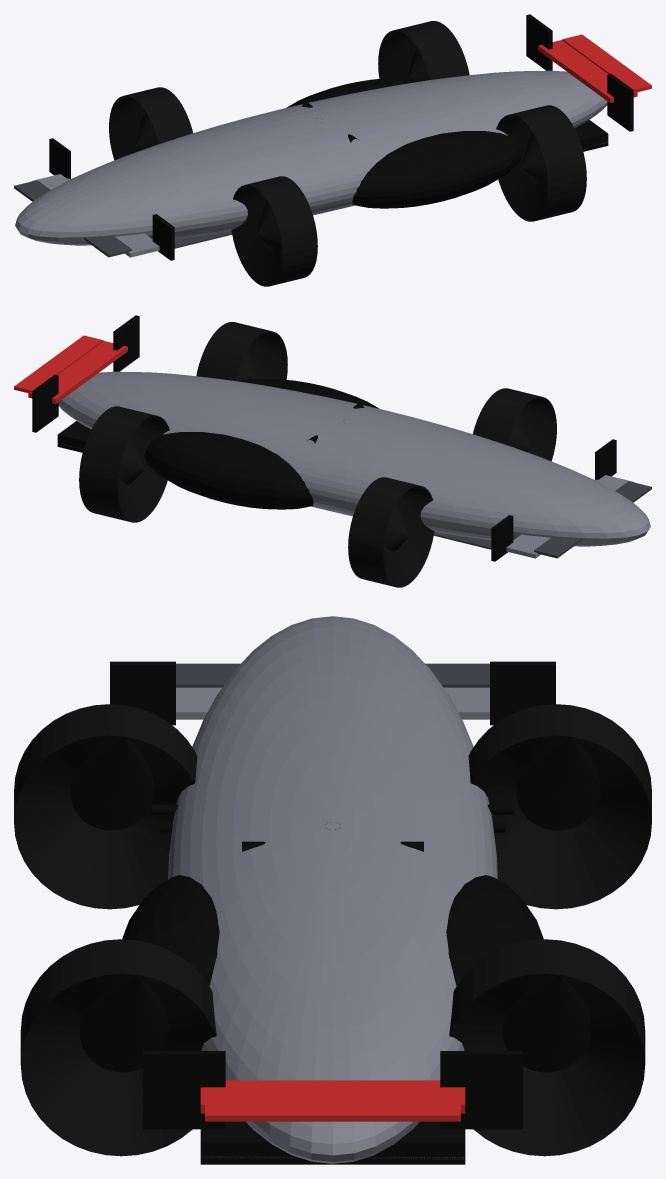
The model's file is f1_car.obj.
The picture shows the model from 3 angles, top to bottom: view 1: azimuth 30°, elevation 25°; view 2: azimuth 150°, elevation 25°; view 3: azimuth 270°, elevation 25°; orthographic projection. The views are drawn at different scales.
Visible parts, largest first — view 1: body, sidepod_L, wheel_RL, wheel_FL, wheel_RR, wheel_FR, rear_wing_main, rear_wing_drs, rear_wing_endplate_L, sidepod_R, front_wing_flap, rear_wing_endplate_R (+5 smaller); view 2: body, sidepod_R, wheel_RR, wheel_FR, wheel_RL, wheel_FL, rear_wing_main, rear_wing_drs, rear_wing_endplate_R, sidepod_L, front_wing_flap, rear_wing_endplate_L (+5 smaller); view 3: body, wheel_RL, wheel_RR, wheel_FL, wheel_FR, diffuser, rear_wing_drs, sidepod_L, sidepod_R, rear_wing_endplate_L, rear_wing_endplate_R, rear_wing_main (+4 smaller).
Part boxes in pixels (bbox=[...]): body: bbox=[15, 70, 607, 245]; sidepod_L: bbox=[352, 131, 521, 208]; wheel_RL: bbox=[496, 105, 586, 221]; wheel_FL: bbox=[231, 176, 317, 286]; wheel_RR: bbox=[378, 21, 469, 80]; wheel_FR: bbox=[109, 87, 192, 160]; rear_wing_main: bbox=[538, 39, 637, 103]; rear_wing_drs: bbox=[562, 34, 651, 91]; rear_wing_endplate_L: bbox=[607, 73, 633, 131]; sidepod_R: bbox=[286, 78, 426, 107]; front_wing_flap: bbox=[14, 180, 131, 257]; rear_wing_endplate_R: bbox=[526, 14, 552, 70]; body: bbox=[58, 371, 650, 546]; sidepod_R: bbox=[144, 432, 313, 509]; wheel_RR: bbox=[79, 406, 169, 522]; wheel_FR: bbox=[348, 477, 434, 587]; wheel_RL: bbox=[196, 322, 287, 381]; wheel_FL: bbox=[473, 388, 556, 461]; rear_wing_main: bbox=[28, 340, 127, 404]; rear_wing_drs: bbox=[14, 335, 103, 392]; rear_wing_endplate_R: bbox=[32, 374, 58, 432]; sidepod_L: bbox=[239, 379, 379, 408]; front_wing_flap: bbox=[534, 481, 651, 558]; rear_wing_endplate_L: bbox=[113, 315, 139, 371]; body: bbox=[168, 616, 497, 1163]; wheel_RL: bbox=[20, 939, 216, 1156]; wheel_RR: bbox=[449, 939, 645, 1156]; wheel_FL: bbox=[14, 704, 197, 909]; wheel_FR: bbox=[468, 704, 651, 909]; diffuser: bbox=[200, 1121, 465, 1164]; rear_wing_drs: bbox=[205, 1098, 460, 1121]; sidepod_L: bbox=[122, 875, 219, 985]; sidepod_R: bbox=[446, 875, 543, 985]; rear_wing_endplate_L: bbox=[143, 1051, 225, 1129]; rear_wing_endplate_R: bbox=[440, 1051, 522, 1129]; rear_wing_main: bbox=[200, 1080, 465, 1113].
Size of the model in its own units: 7.67 by 1.22 by 3.86.
